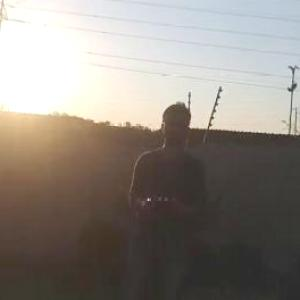follow: (119, 98, 207, 299)
